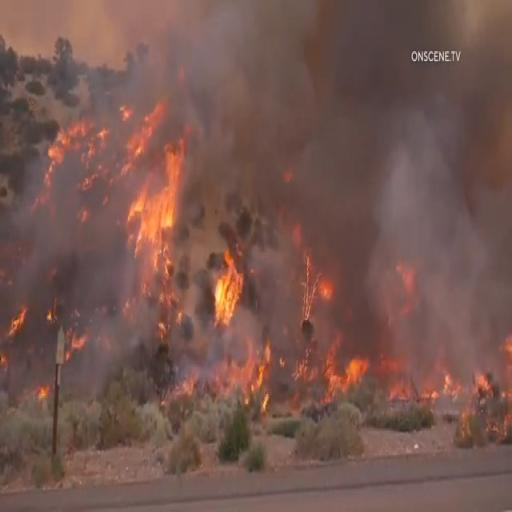fire: (116, 108, 196, 350), (74, 75, 193, 202), (282, 234, 352, 436), (44, 109, 117, 235), (187, 350, 274, 430), (315, 322, 384, 411), (206, 256, 242, 335)
smoke: (246, 8, 392, 119), (382, 78, 508, 200), (443, 224, 511, 308)
